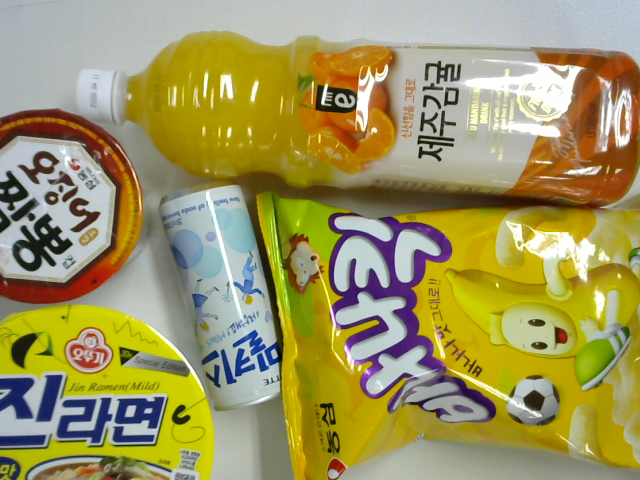Banana_Kick: (259, 192, 640, 478)
Jeju_Tangerine_1.5L: (71, 38, 639, 212)
Jinlamyeon_Mild_Taste_Large_Cup: (5, 302, 223, 480)
Milkies_250ml: (159, 182, 287, 406)
Ojjam: (3, 102, 139, 302)
